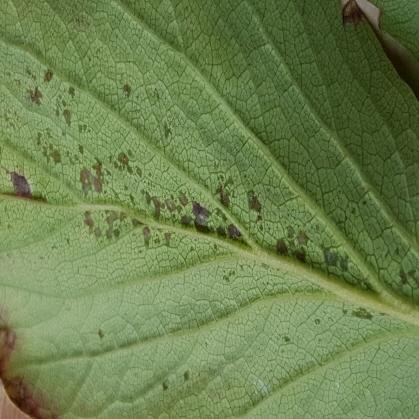Angular Leafspot: (0, 12, 418, 400)
